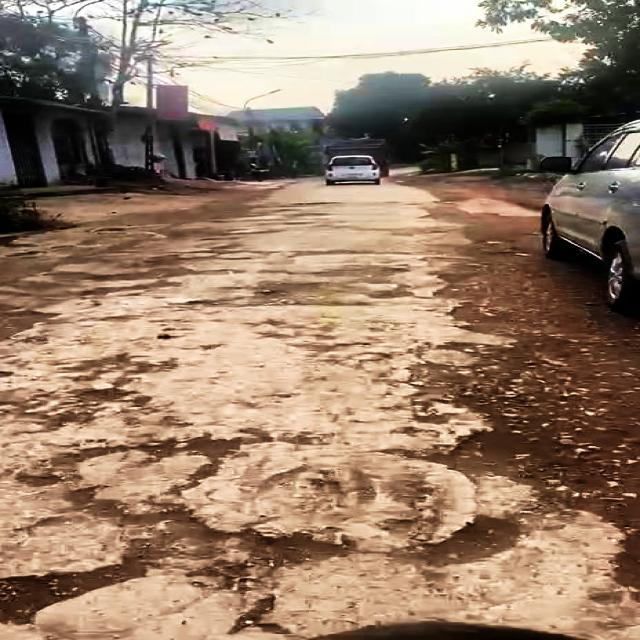pothole: (18, 464, 349, 584), (379, 398, 603, 518), (47, 430, 281, 494), (0, 352, 170, 431), (0, 559, 156, 629), (183, 264, 403, 310), (401, 516, 530, 574), (397, 337, 497, 398)
